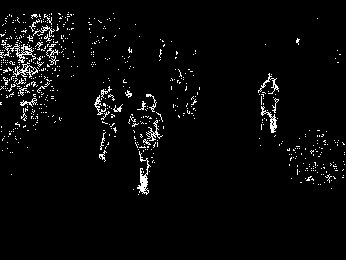person: (128, 92, 163, 198), (95, 83, 120, 162), (257, 71, 282, 147)
